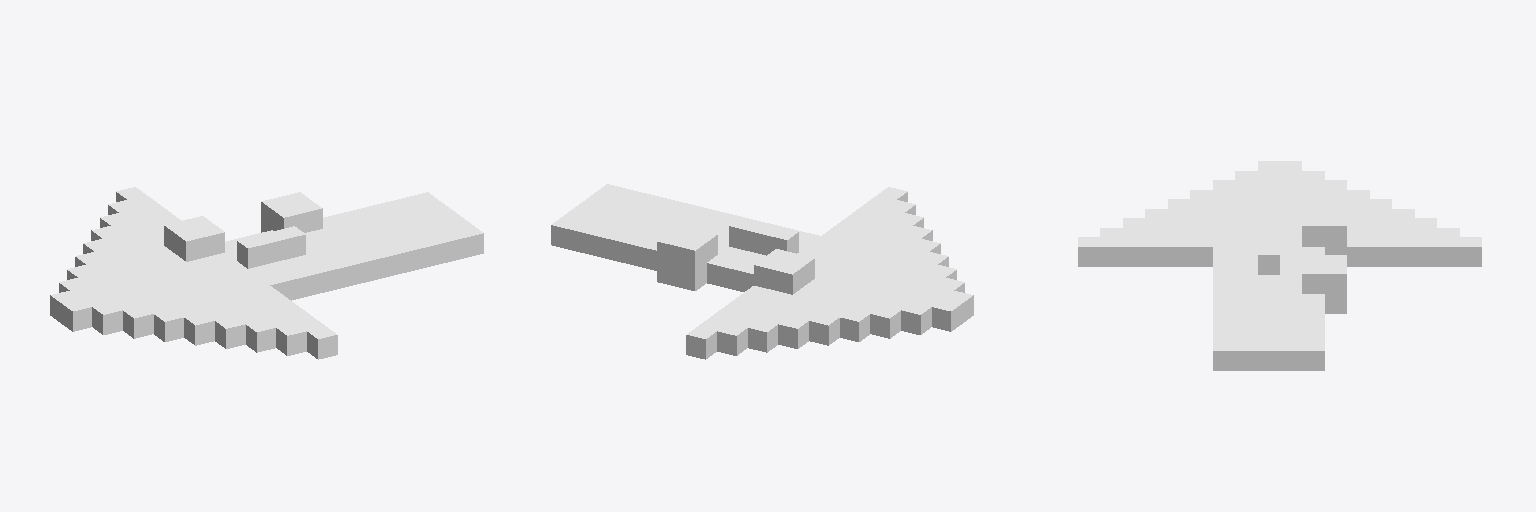
The model's file is PointT.obj.
The picture shows the model from 3 angles: view 1: azimuth 30°, elevation 25°; view 2: azimuth 150°, elevation 25°; view 3: azimuth 270°, elevation 25°; orthographic projection.
Parts seen in each view (by area): view 1: object 1; view 2: object 1; view 3: object 1.
Part boxes in pixels (x1,y1,x2,y2): object 1: (50,187,483,359); object 1: (551,184,973,359); object 1: (1078,161,1481,370).
Size of the model in its own units: 2 by 0.2 by 1.8.